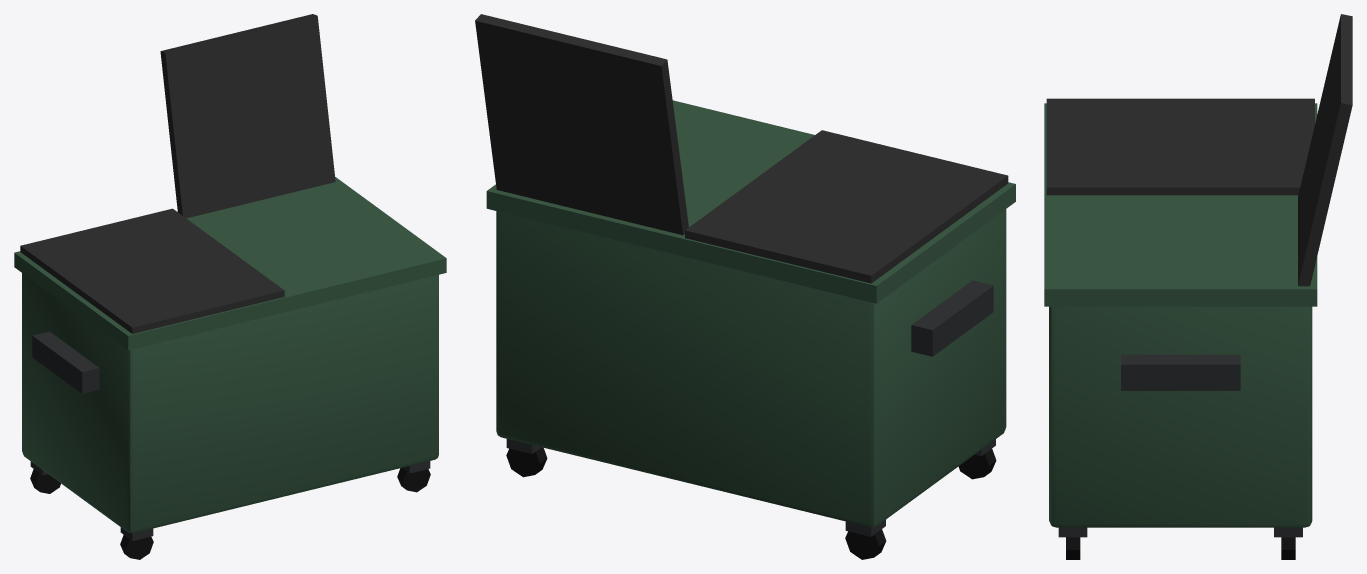
The model's file is dumpster.glb.
3 renders of one model, left to right at view 1: azimuth 30°, elevation 25°; view 2: azimuth 150°, elevation 25°; view 3: azimuth 270°, elevation 25°, orthographic. The views are drawn at different scales.
Visible parts, largest first — view 1: Piece_lod0; view 2: Piece_lod0; view 3: Piece_lod0.
Boxes of the visible parts, x1=… form: Piece_lod0: x1=14, y1=14, x2=446, y2=559; Piece_lod0: x1=475, y1=14, x2=1015, y2=559; Piece_lod0: x1=1044, y1=14, x2=1352, y2=559.
Size of what is drawn, in the model's own units: 2 by 2.15 by 1.29.
